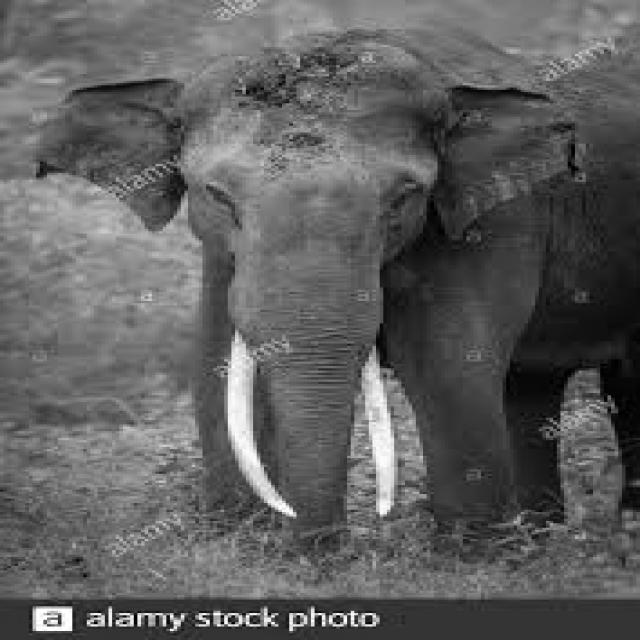Elephant: (29, 20, 636, 559)
